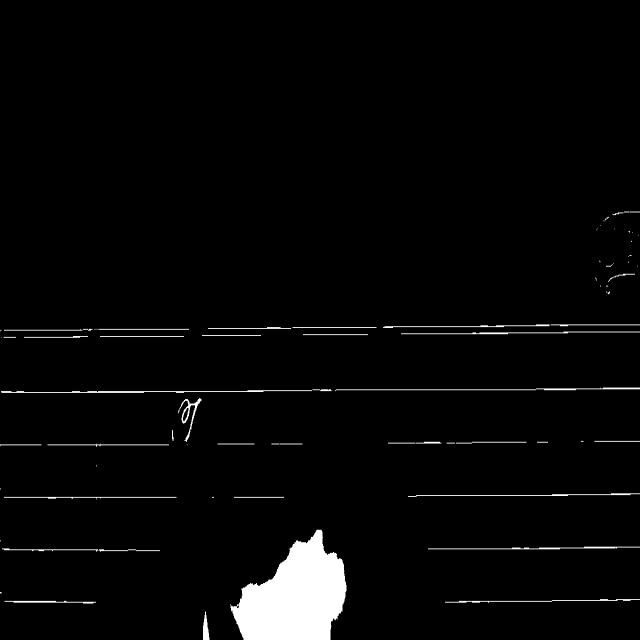hand: (232, 530, 346, 639), (203, 612, 209, 639)
noise: (0, 386, 640, 394), (382, 323, 640, 335), (0, 328, 192, 339), (200, 326, 380, 337), (0, 543, 160, 554), (445, 597, 640, 604), (428, 545, 640, 551), (2, 494, 178, 501), (387, 439, 550, 445), (408, 492, 640, 496), (0, 443, 170, 448), (4, 600, 96, 604), (580, 438, 640, 443), (228, 494, 286, 499), (270, 441, 304, 446), (216, 442, 256, 446)
not-noise: (178, 398, 201, 442), (171, 430, 174, 441)
page-marker: (596, 211, 640, 292)
